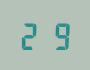nine: (45, 20, 70, 50)
two: (19, 20, 44, 50)
